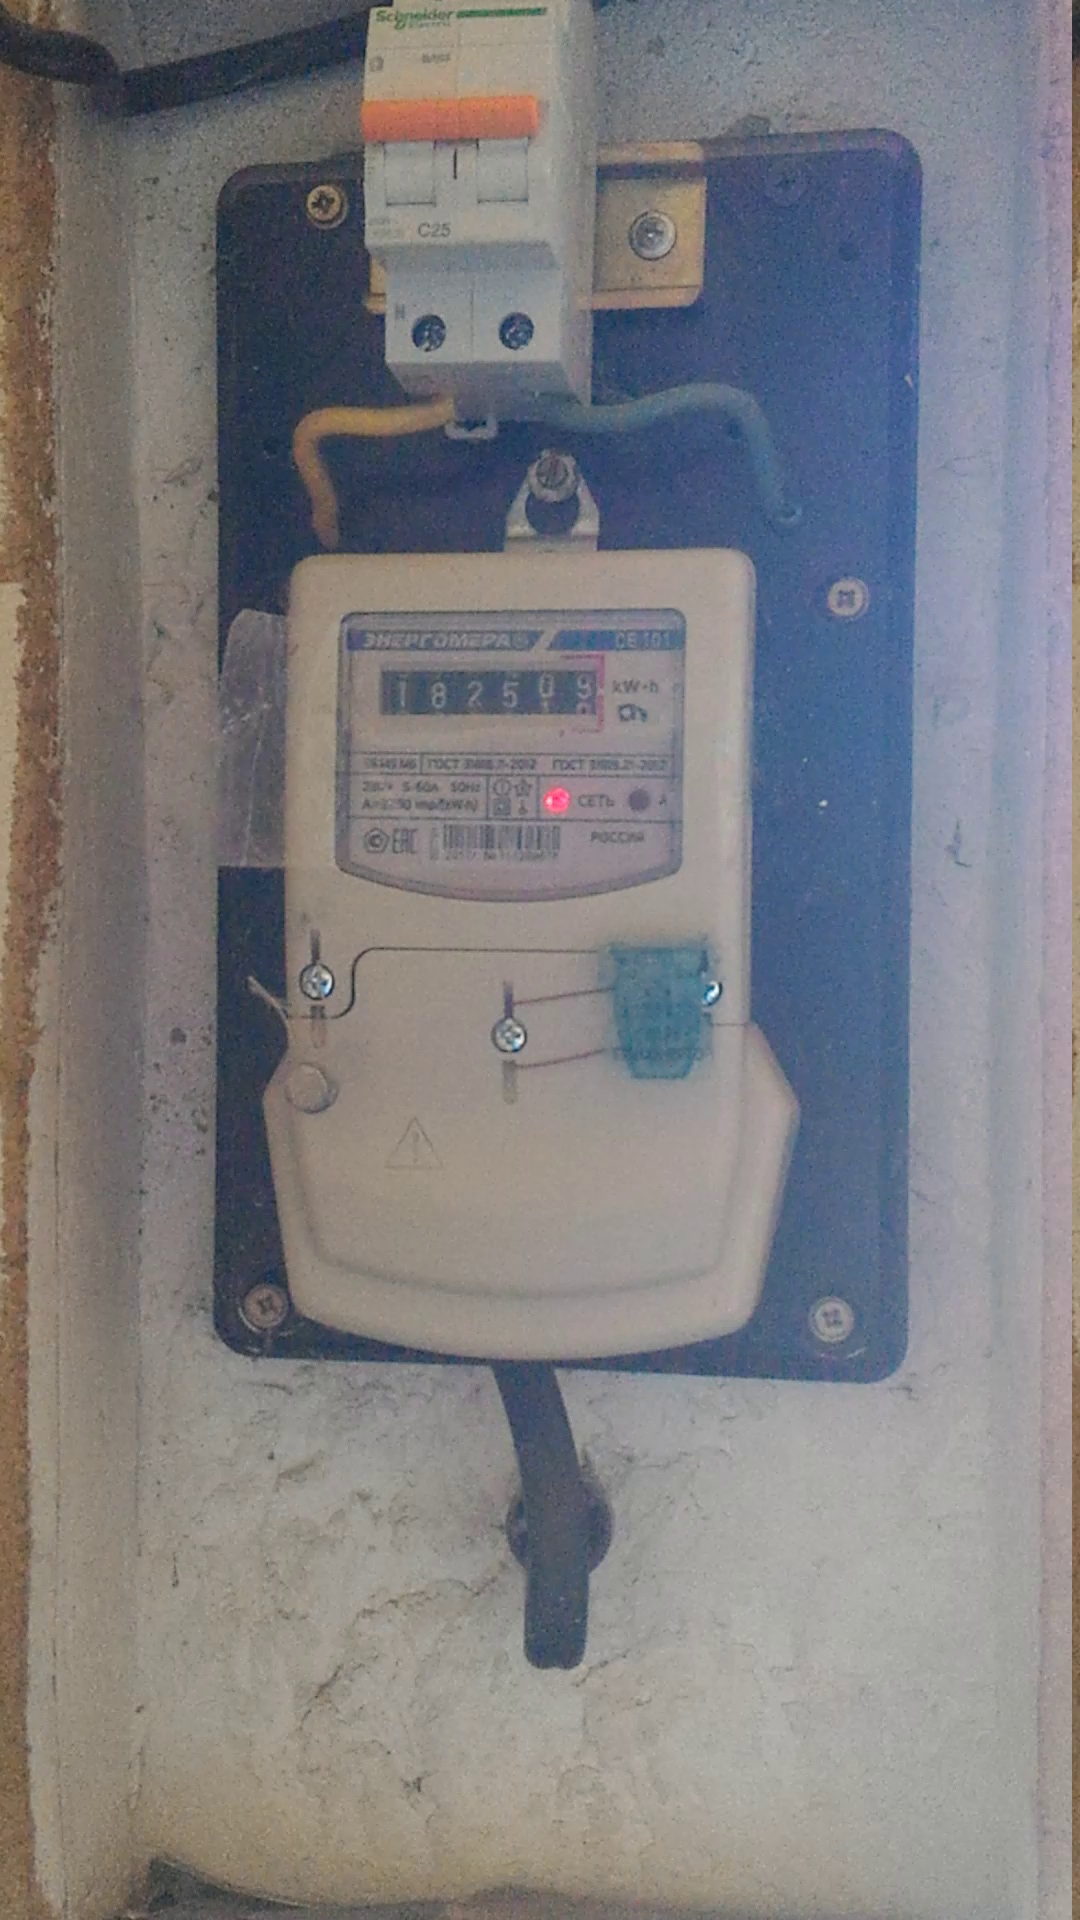counter: (272, 549, 774, 1361)
counter_screen: (378, 667, 600, 717)
